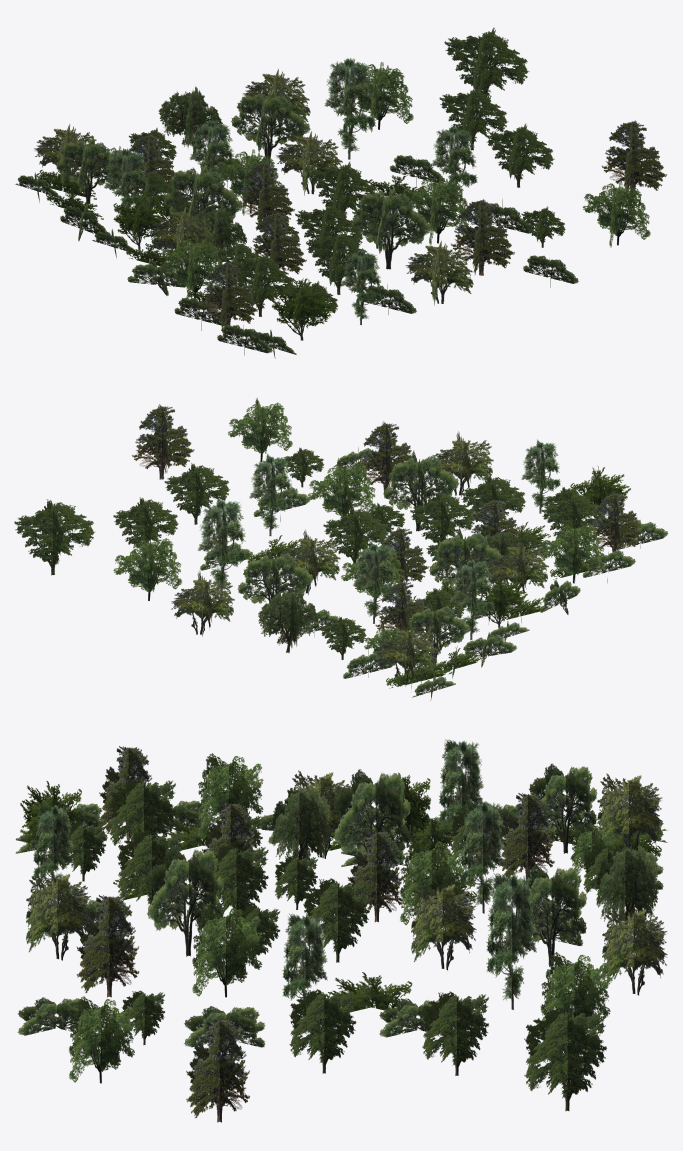
The model's file is v_forest28r.gltf.
The picture shows the model from 3 angles, top to bottom: view 1: azimuth 30°, elevation 25°; view 2: azimuth 150°, elevation 25°; view 3: azimuth 270°, elevation 25°; orthographic projection. The views are drawn at different scales.
Bounding box in the file's own units: 117 × 24.08 × 102.
Materials: 1 (1 with a texture image).
